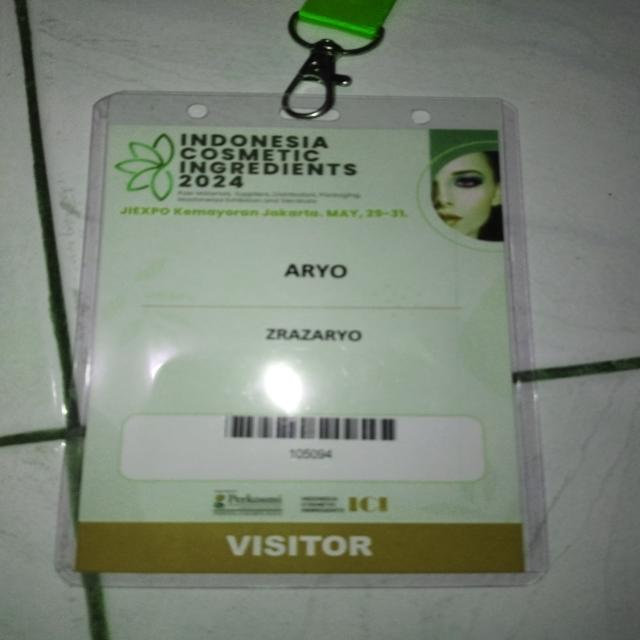ID_card: (69, 90, 538, 580)
